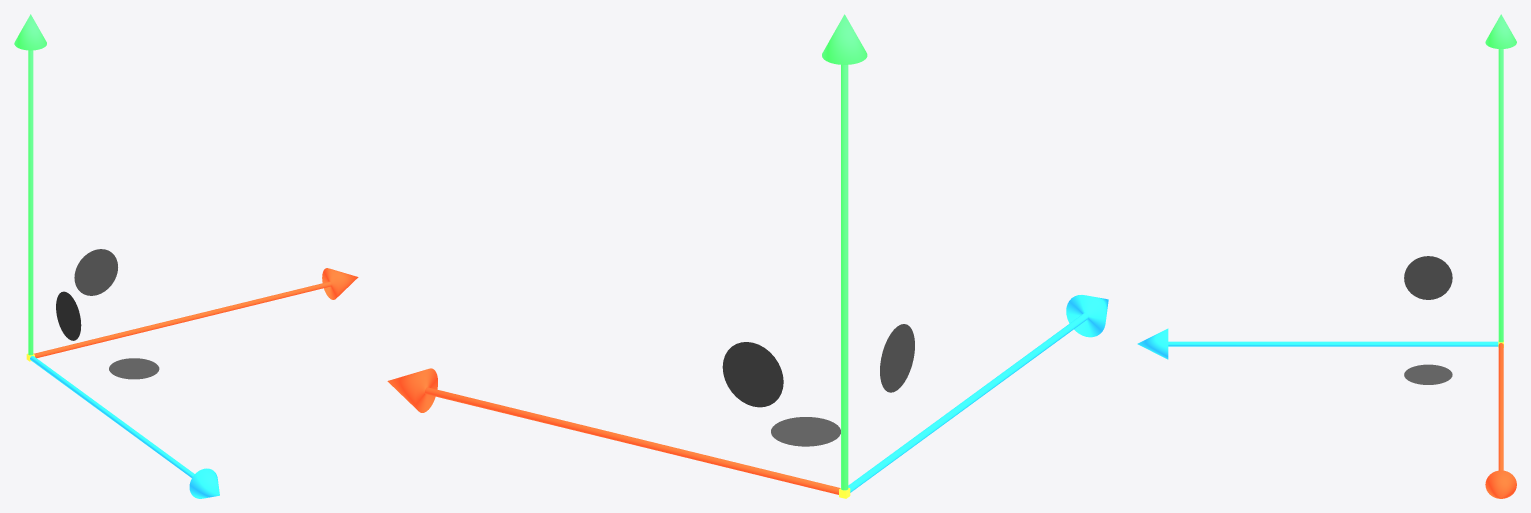
File: Transform_control_translate_tool.gltf
3 renders of one model, left to right at view 1: azimuth 30°, elevation 25°; view 2: azimuth 150°, elevation 25°; view 3: azimuth 270°, elevation 25°, orthographic. The views are drawn at different scales.
Visible parts, largest first — view 1: Y_Line, X_Line, X_Y_Move_cursor, Z_Line, Y_Z_Move_cursor, Z_X_Move_cursor, Z_Arrow_Head, Y_Arrow_Head, X_Arrow_Head; view 2: Y_Line, X_Line, X_Y_Move_cursor, Z_Line, Y_Z_Move_cursor, Z_X_Move_cursor, Y_Arrow_Head, Z_Arrow_Head, X_Arrow_Head; view 3: Z_Line, Y_Line, Y_Z_Move_cursor, Z_X_Move_cursor, X_Line, X_Arrow_Head, Y_Arrow_Head, Z_Arrow_Head.
Boxes of the visible parts, <box> form: Y_Line: <box>28,50,33,355</box>; X_Line: <box>33,281,331,357</box>; X_Y_Move_cursor: <box>74,249,117,295</box>; Z_Line: <box>30,356,194,477</box>; Y_Z_Move_cursor: <box>56,291,81,340</box>; Z_X_Move_cursor: <box>109,358,159,379</box>; Z_Arrow_Head: <box>189,468,219,498</box>; Y_Arrow_Head: <box>14,14,46,50</box>; X_Arrow_Head: <box>322,268,358,299</box>; Y_Line: <box>841,65,848,490</box>; X_Line: <box>425,387,840,494</box>; X_Y_Move_cursor: <box>722,342,783,407</box>; Z_Line: <box>848,312,1088,492</box>; Y_Z_Move_cursor: <box>880,324,914,392</box>; Z_X_Move_cursor: <box>771,417,840,446</box>; Y_Arrow_Head: <box>822,14,867,64</box>; Z_Arrow_Head: <box>1066,295,1108,337</box>; X_Arrow_Head: <box>387,368,437,412</box>; Z_Line: <box>1168,341,1498,346</box>; Y_Line: <box>1498,49,1503,342</box>; Y_Z_Move_cursor: <box>1404,256,1452,299</box>; Z_X_Move_cursor: <box>1404,364,1452,384</box>; X_Line: <box>1498,343,1503,470</box>; X_Arrow_Head: <box>1485,470,1516,498</box>; Y_Arrow_Head: <box>1485,14,1516,48</box>; Z_Arrow_Head: <box>1137,328,1168,359</box>.
Bounding box in the file's own units: 0.7825 × 0.7825 × 0.7825.
